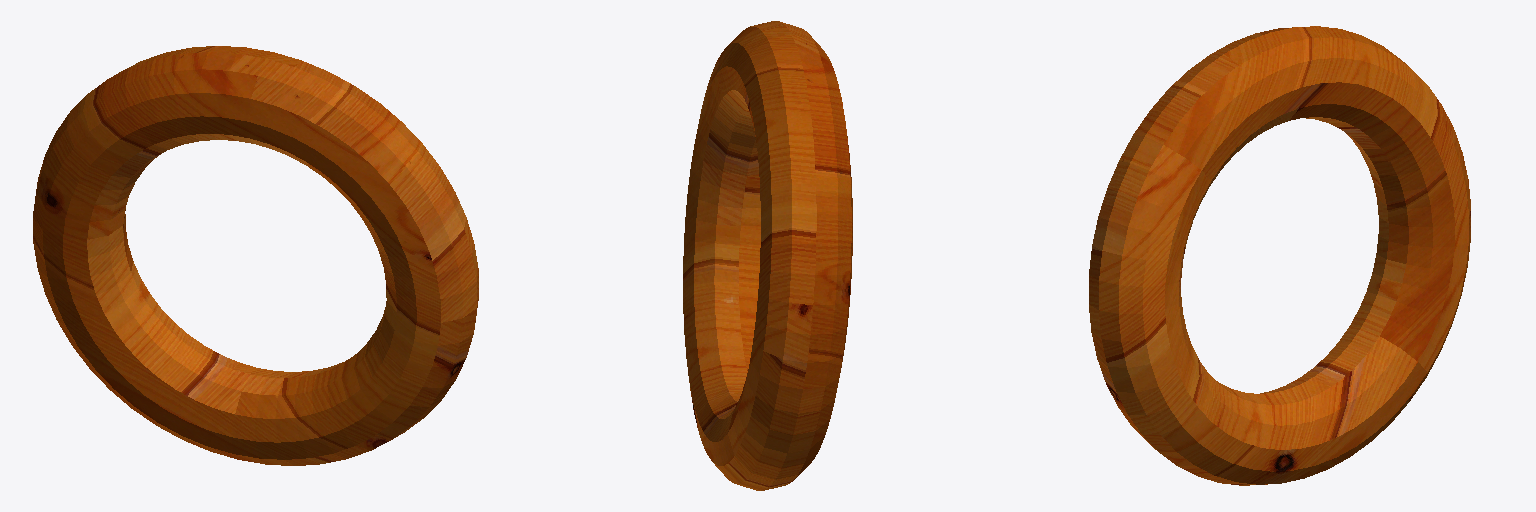
3 views of the same model, side by side, from view 1: azimuth 30°, elevation 25°; view 2: azimuth 150°, elevation 25°; view 3: azimuth 270°, elevation 25° (orthographic).
Visible parts, largest first — view 1: Torus; view 2: Torus; view 3: Torus.
Boxes of the visible parts, <box> form: Torus: <box>33,46,478,465</box>; Torus: <box>683,21,852,490</box>; Torus: <box>1089,26,1470,485</box>.
Bounding box in the file's own units: 1.78 × 2.48 × 2.03.
Materials: 1 (1 with a texture image).